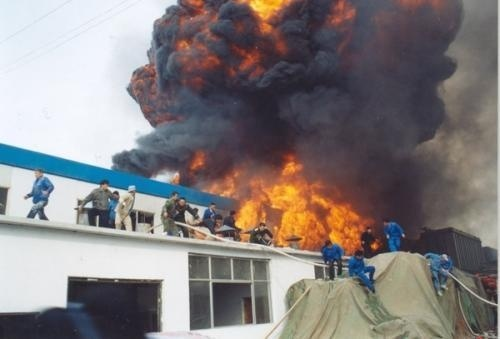fire: (193, 155, 385, 256)
